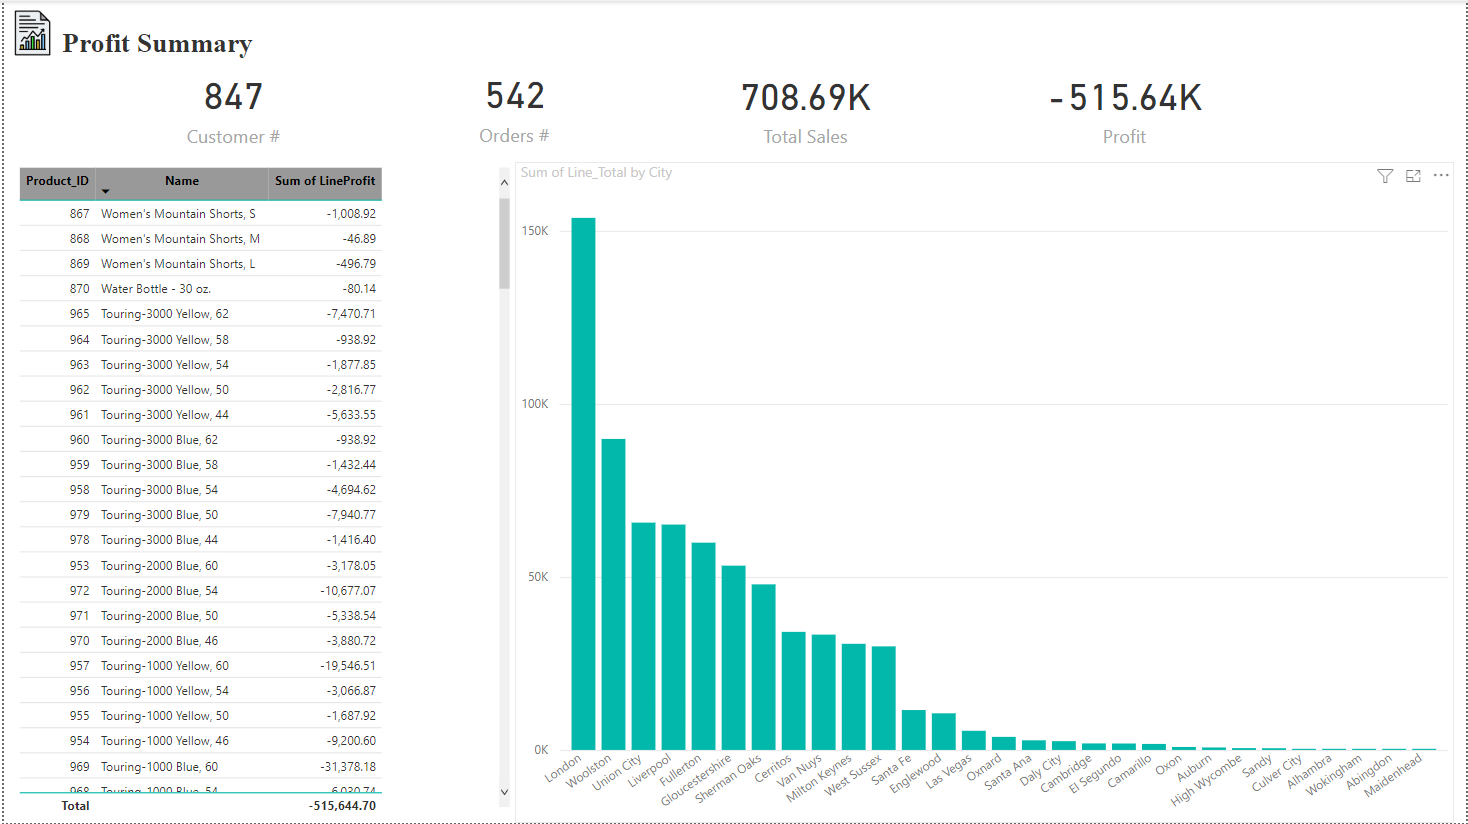

This screenshot's page, from the dashboard's own definition file:
{"tool":"powerbi","page":{"name":"Page 1","canvas":[1280,720],"ordinal":0},"visuals":[{"type":"textbox","box":[0,0,1279.7,56.9],"z":0},{"type":"card","fields":{"Values":["CountNonNull(SalesLT SalesOrderDetail.Sales_Order_ID)"]},"box":[355.6,48.2,183.1,85],"z":1000},{"type":"card","fields":{"Values":["Sum(SalesLT SalesOrderDetail.Line_Total)"]},"box":[610.5,49.9,183.1,84.1],"z":2000},{"type":"card","fields":{"Values":["Sum(SalesLT SalesOrderDetail.LineProfit)"]},"box":[889.9,49.9,183.1,84.1],"z":3000},{"type":"image","box":[0,0,49.9,56.9],"z":4000},{"type":"tableEx","fields":{"Values":["SalesLT SalesOrderDetail.Product_ID","SalesLT Product.Name","Sum(SalesLT SalesOrderDetail.LineProfit)"]},"box":[7.9,141,439.7,579],"z":5000},{"type":"card","fields":{"Values":["Count(SalesLT Customer.Customer_ID)"]},"box":[109.5,49.1,183.1,85],"z":7000},{"type":"columnChart","fields":{"Category":["SalesLT Address.City"],"Y":["Sum(SalesLT SalesOrderDetail.Line_Total)"]},"box":[447.6,141,822.5,579],"z":8000}]}

Visuals, with their boxes in screenshot pixels (x1, y1, x2, y2), scaled from the page's 1280x720 canvas onto the 1468x824 screenshot:
textbox: (x1=0, y1=0, x2=1467, y2=65)
card - CountNonNull(SalesLT SalesOrderDetail.Sales_Order_ID): (x1=408, y1=55, x2=618, y2=152)
card - Sum(SalesLT SalesOrderDetail.Line_Total): (x1=700, y1=57, x2=910, y2=153)
card - Sum(SalesLT SalesOrderDetail.LineProfit): (x1=1021, y1=57, x2=1231, y2=153)
image: (x1=0, y1=0, x2=57, y2=65)
tableEx - SalesLT SalesOrderDetail.Product_ID x SalesLT Product.Name: (x1=9, y1=161, x2=513, y2=823)
card - Count(SalesLT Customer.Customer_ID): (x1=126, y1=56, x2=336, y2=153)
columnChart - SalesLT Address.City x Sum(SalesLT SalesOrderDetail.Line_Total): (x1=513, y1=161, x2=1457, y2=823)
